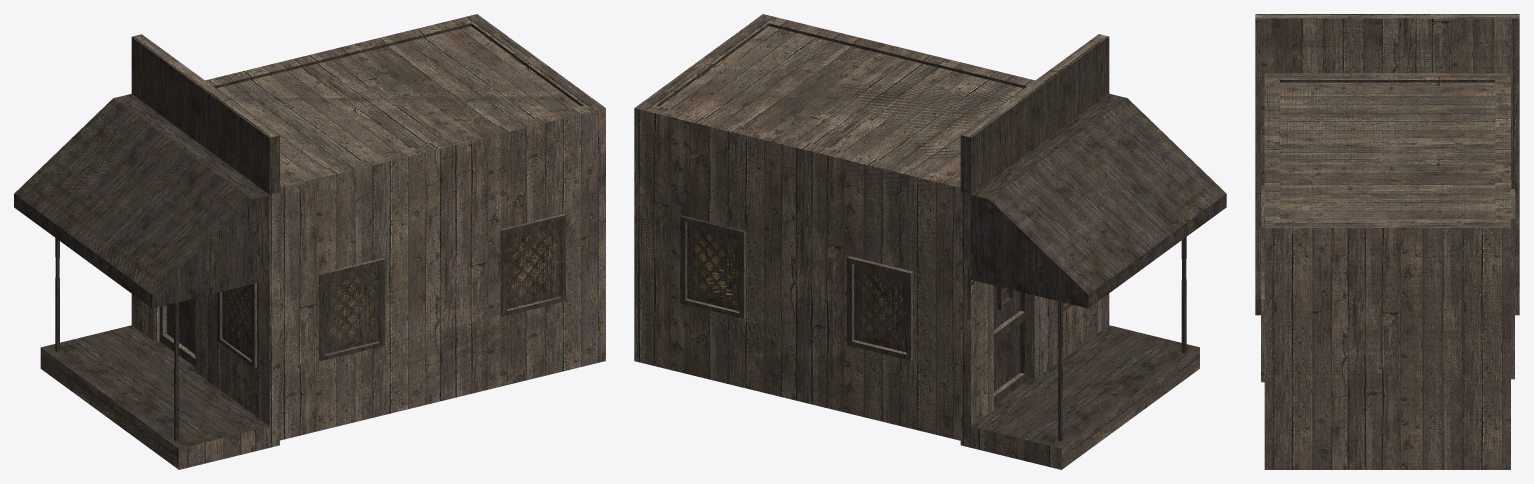
The model's file is House 3 N.fbx.
The picture shows the model from 3 angles, left to right: view 1: azimuth 30°, elevation 25°; view 2: azimuth 150°, elevation 25°; view 3: azimuth 270°, elevation 25°; orthographic projection. The views are drawn at different scales.
Parts seen in each view (by area): view 1: Model; view 2: Model; view 3: Model.
Part boxes in pixels (x1,y1,x2,y2): Model: (14,14,605,469); Model: (634,14,1226,469); Model: (1255,14,1519,469).
Size of the model in its own units: 63.92 by 41.28 by 33.38.
